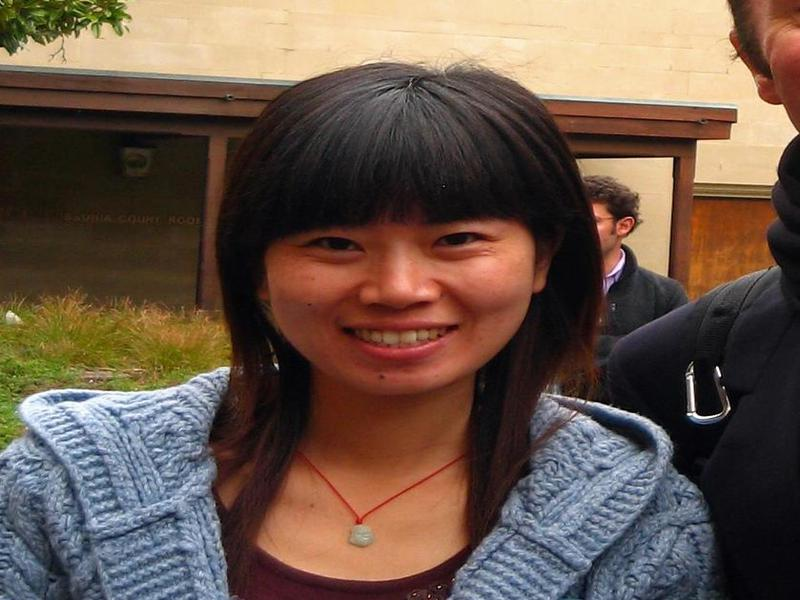person: (2, 60, 723, 600), (582, 164, 688, 329)
